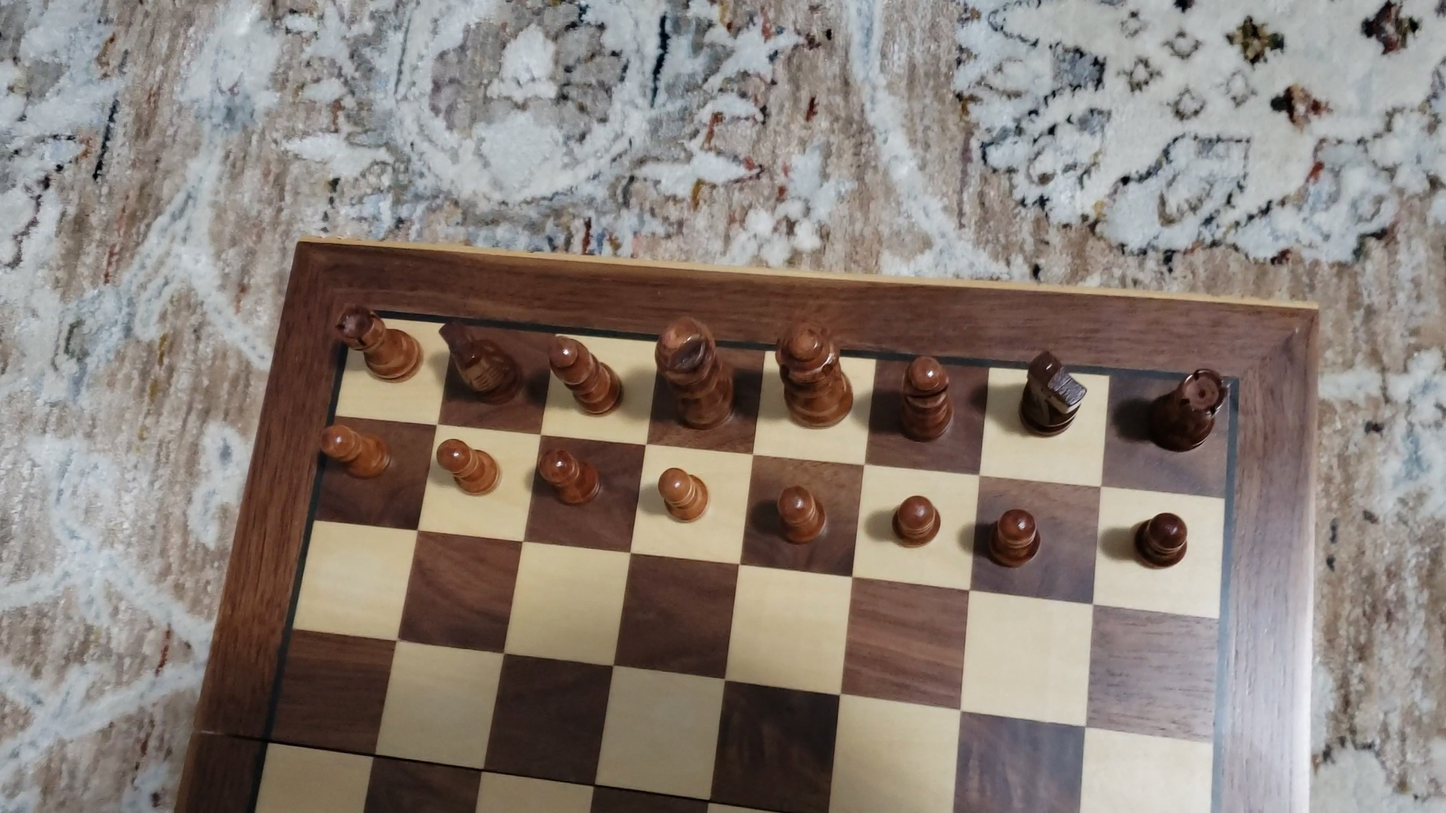black-bishop: (546, 334, 624, 415), (898, 352, 955, 442)
black-king: (653, 311, 738, 431)
black-knight: (1014, 346, 1091, 439), (439, 321, 524, 405)
black-pawn: (536, 444, 604, 508), (319, 421, 392, 480), (983, 504, 1043, 573), (434, 436, 500, 496), (1131, 509, 1191, 572), (773, 480, 827, 547), (655, 464, 711, 526), (889, 492, 943, 550)
black-queen: (773, 316, 855, 429)
black-rook: (1143, 366, 1229, 453), (337, 303, 419, 382)
